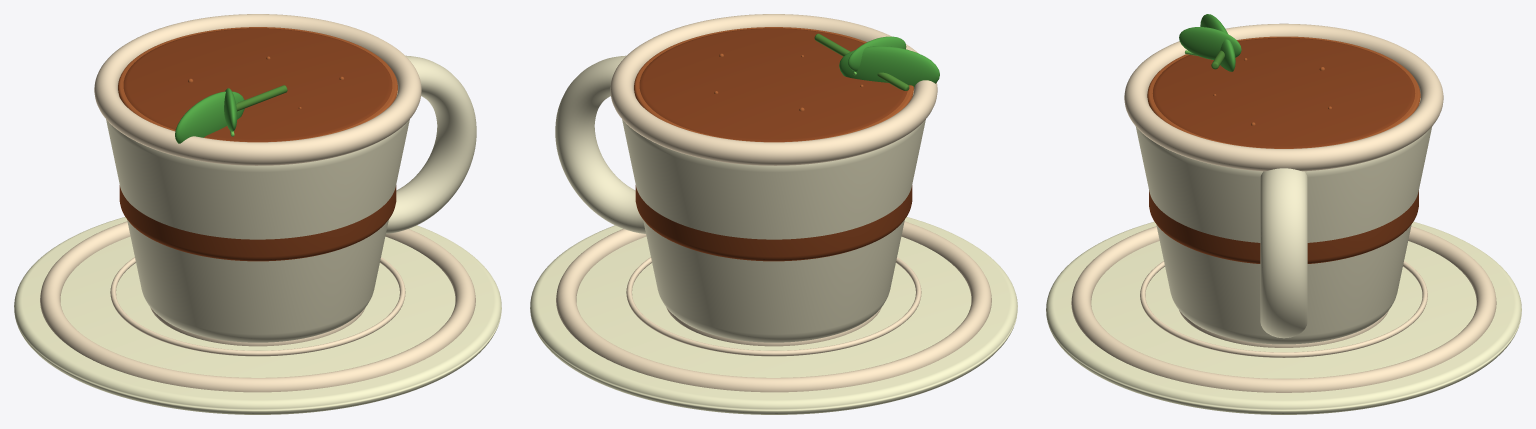
The model's file is tea1.glb.
3 views of the same model, side by side, from view 1: azimuth 30°, elevation 25°; view 2: azimuth 150°, elevation 25°; view 3: azimuth 270°, elevation 25° (orthographic). The views are drawn at different scales.
Visible parts, largest first — view 1: Opaque_Ceramic_Tea_Cup, Modern_Ceramic_Saucer, Amber_Tea_Volume, Thick_Ceramic_Cup_Rim, Saucer_Raised_Rim, Opaque_Ceramic_Handle, Saucer_Inner_Detail, Mint_Leaf_1, Amber_Tea_Surface, Cup_Bottom_Ceramic_Ring, Mint_Leaf_3, Mint_Main_Stem; view 2: Opaque_Ceramic_Tea_Cup, Modern_Ceramic_Saucer, Amber_Tea_Volume, Thick_Ceramic_Cup_Rim, Saucer_Raised_Rim, Opaque_Ceramic_Handle, Mint_Leaf_1, Saucer_Inner_Detail, Amber_Tea_Surface, Cup_Bottom_Ceramic_Ring, Mint_Leaf_3, Mint_Main_Stem; view 3: Modern_Ceramic_Saucer, Opaque_Ceramic_Tea_Cup, Amber_Tea_Volume, Thick_Ceramic_Cup_Rim, Saucer_Raised_Rim, Opaque_Ceramic_Handle, Saucer_Inner_Detail, Amber_Tea_Surface, Mint_Leaf_3, Cup_Bottom_Ceramic_Ring, Mint_Leaf_1.
Part boxes in pixels (left/top/right/bottom): Opaque_Ceramic_Tea_Cup: left=106, top=91, right=409, bottom=342; Modern_Ceramic_Saucer: left=14, top=217, right=501, bottom=414; Amber_Tea_Volume: left=119, top=28, right=396, bottom=261; Thick_Ceramic_Cup_Rim: left=94, top=14, right=421, bottom=165; Saucer_Raised_Rim: left=40, top=221, right=475, bottom=392; Opaque_Ceramic_Handle: left=386, top=55, right=476, bottom=233; Saucer_Inner_Detail: left=110, top=257, right=405, bottom=356; Mint_Leaf_1: left=175, top=91, right=244, bottom=143; Amber_Tea_Surface: left=118, top=27, right=397, bottom=142; Cup_Bottom_Ceramic_Ring: left=150, top=307, right=365, bottom=346; Mint_Leaf_3: left=224, top=88, right=237, bottom=131; Mint_Main_Stem: left=236, top=85, right=287, bottom=111; Opaque_Ceramic_Tea_Cup: left=622, top=91, right=925, bottom=342; Modern_Ceramic_Saucer: left=530, top=217, right=1017, bottom=414; Amber_Tea_Volume: left=635, top=28, right=912, bottom=261; Thick_Ceramic_Cup_Rim: left=610, top=14, right=937, bottom=165; Saucer_Raised_Rim: left=556, top=221, right=991, bottom=392; Opaque_Ceramic_Handle: left=555, top=55, right=645, bottom=233; Mint_Leaf_1: left=839, top=46, right=939, bottom=88; Saucer_Inner_Detail: left=626, top=257, right=921, bottom=356; Amber_Tea_Surface: left=634, top=27, right=913, bottom=142; Cup_Bottom_Ceramic_Ring: left=666, top=307, right=881, bottom=346; Mint_Leaf_3: left=848, top=36, right=906, bottom=71; Mint_Main_Stem: left=814, top=33, right=909, bottom=90; Modern_Ceramic_Saucer: left=1046, top=221, right=1521, bottom=414; Opaque_Ceramic_Tea_Cup: left=1135, top=98, right=1432, bottom=344; Amber_Tea_Volume: left=1149, top=37, right=1418, bottom=263; Thick_Ceramic_Cup_Rim: left=1124, top=23, right=1443, bottom=171; Saucer_Raised_Rim: left=1071, top=226, right=1496, bottom=392; Opaque_Ceramic_Handle: left=1260, top=168, right=1307, bottom=338; Saucer_Inner_Detail: left=1140, top=261, right=1427, bottom=357; Amber_Tea_Surface: left=1147, top=36, right=1420, bottom=148; Mint_Leaf_3: left=1179, top=27, right=1241, bottom=59; Cup_Bottom_Ceramic_Ring: left=1179, top=310, right=1388, bottom=347; Mint_Leaf_1: left=1200, top=14, right=1235, bottom=71.
Size of the model in its own units: 3.12 by 1.85 by 3.1.
